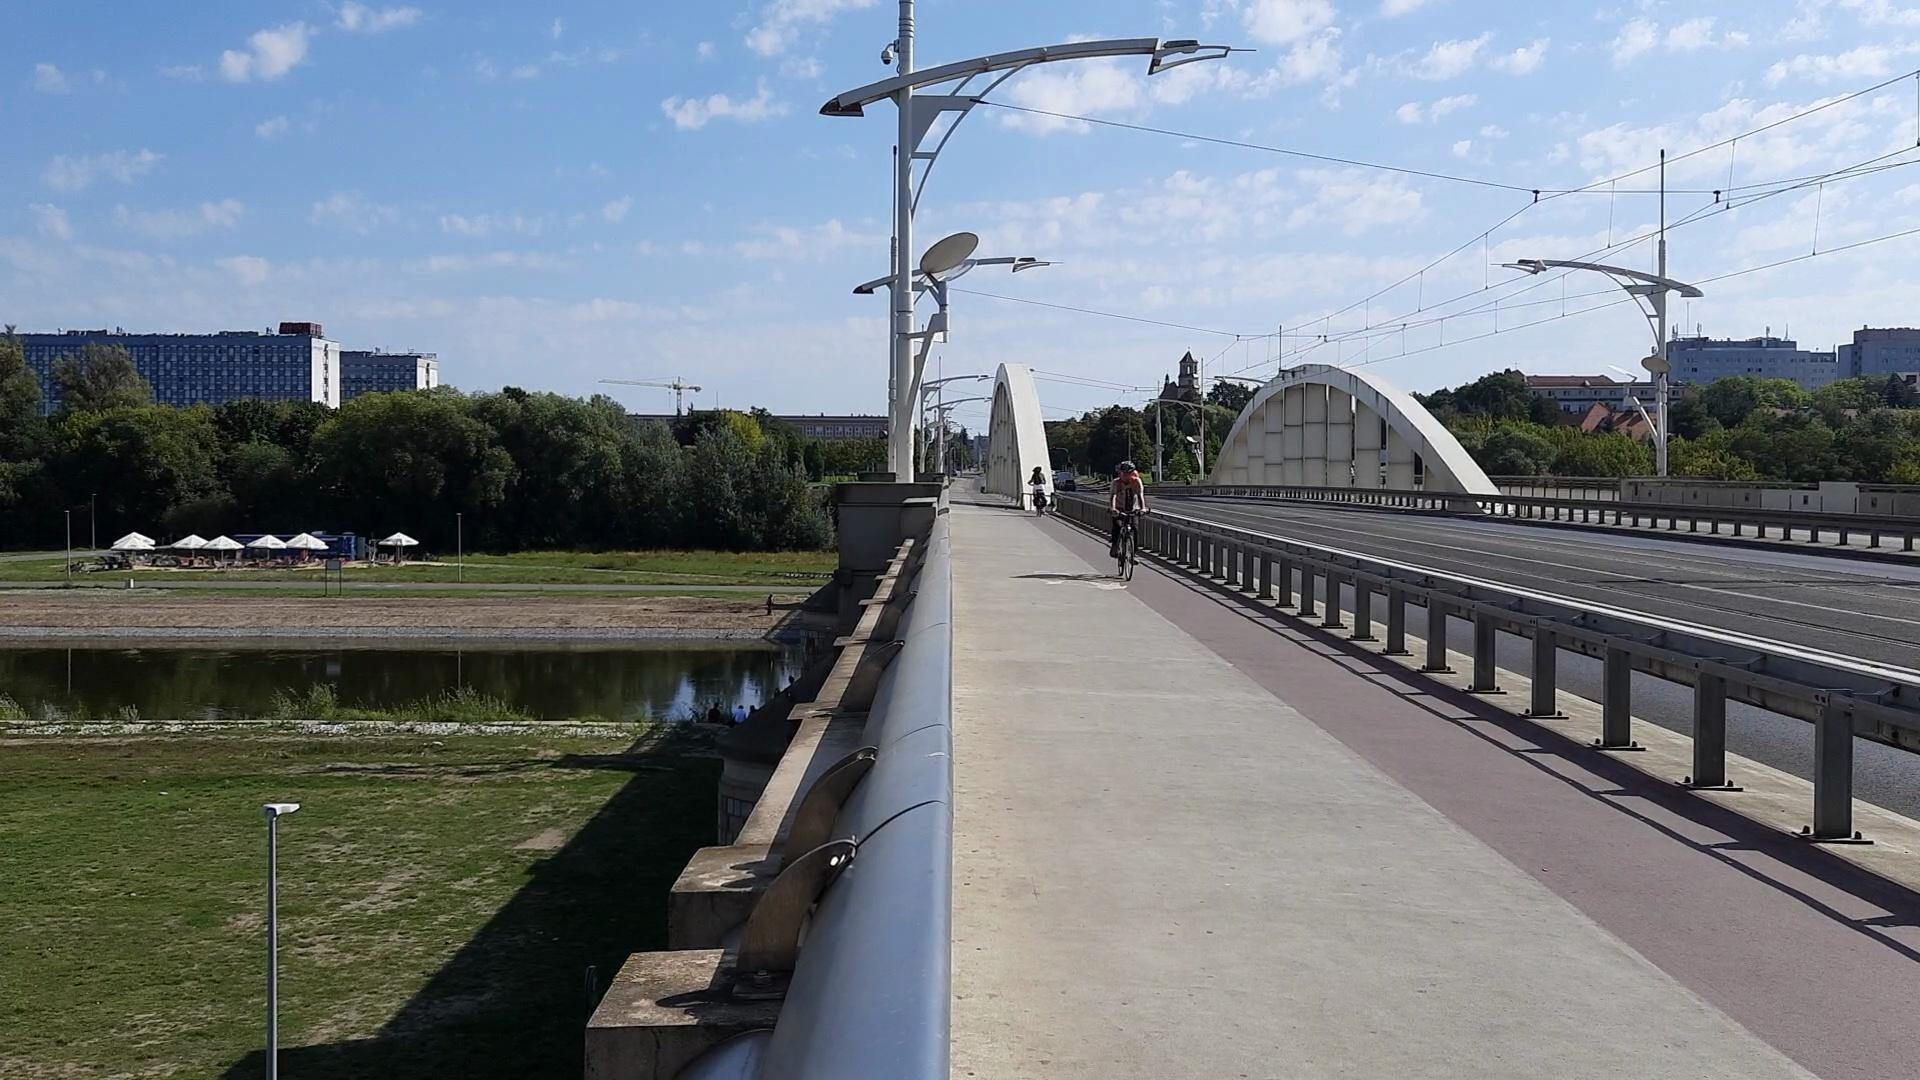cyclist: (1101, 436, 1162, 597)
